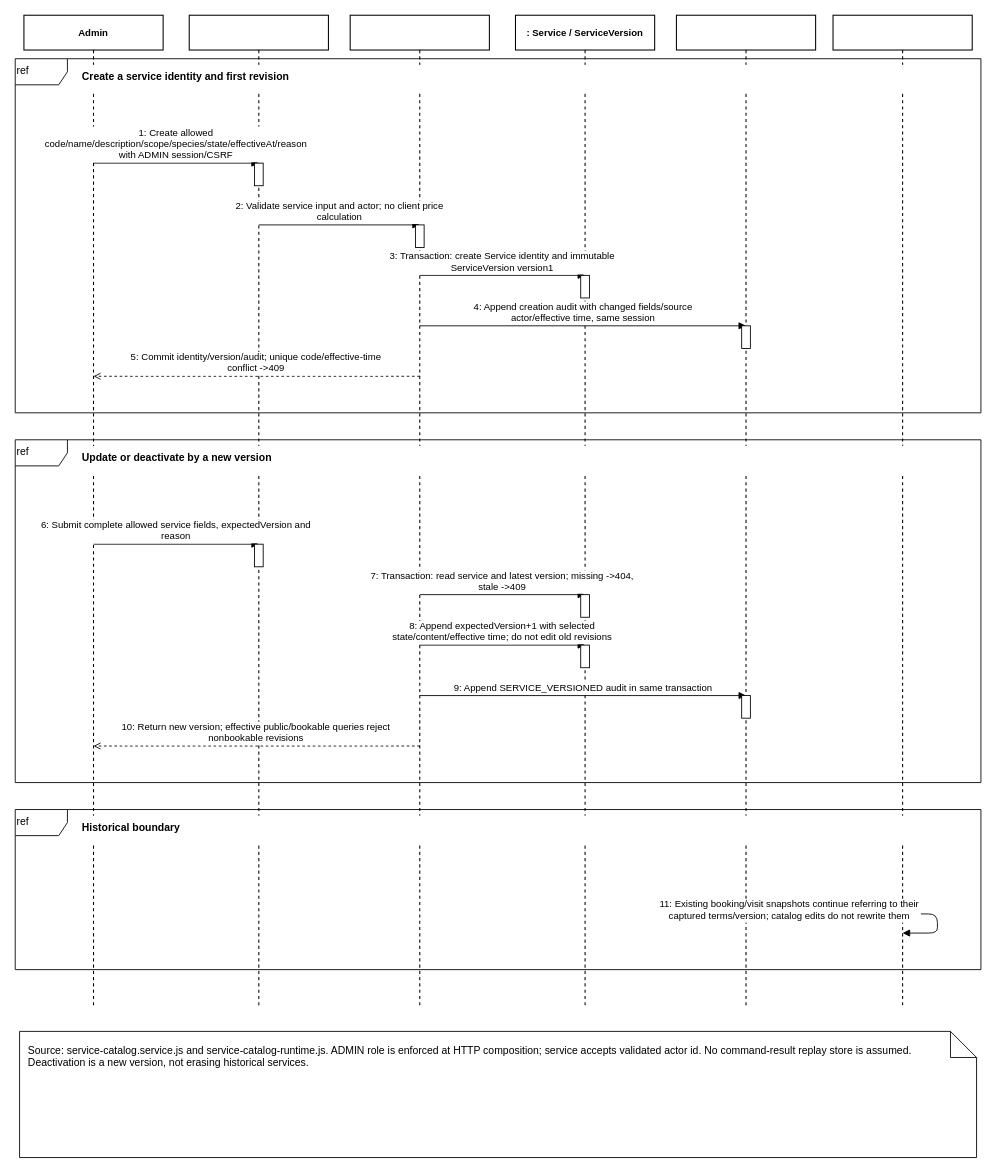
This 996x1174 diagram has some shape labels left out. Each missing label, with the centre of its shape:
": Existing booking snapshots" belongs at (902,509).
": ServiceAudit" belongs at (745,509).
": ServiceCatalogController" belongs at (258,509).
": ServiceCatalogService" belongs at (419,509).
